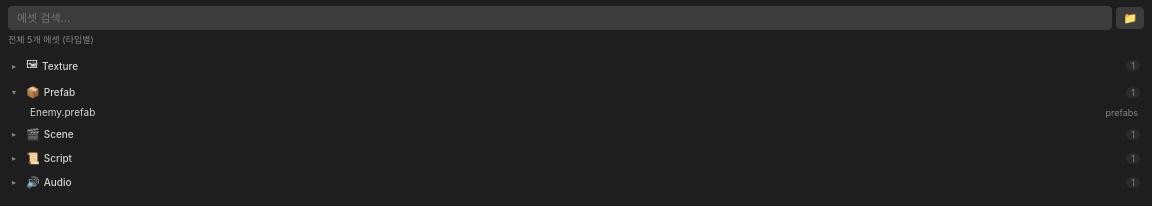
CCFileAssetBrowser › can switch to tree view mode
The image size is (1152, 206).
Expected: the text "Enemy.prefab" is shown, [30,106,95,118]
Click the button titled "폴더 트리 뷰로 전환": (1130, 18) [1116,7,1144,29]
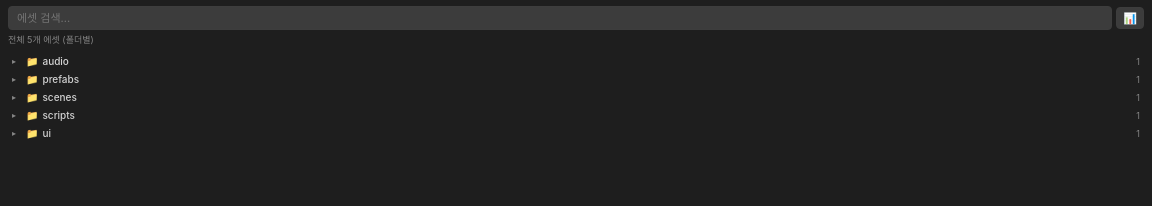
Expected: the text "폴더별" is shown, [66,34,90,45]
